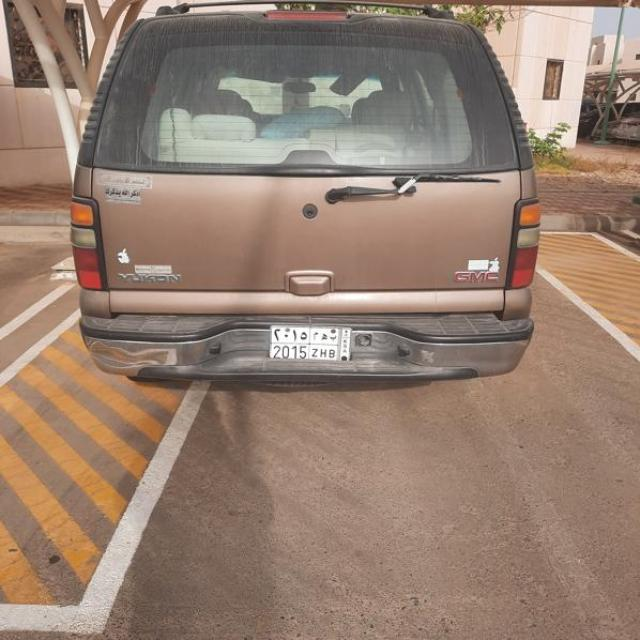license_plate: (270, 325, 352, 363)
